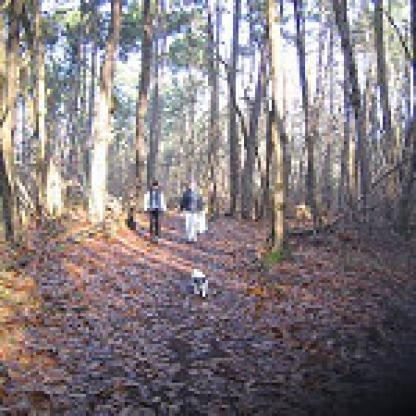trunk: (0, 0, 53, 261), (75, 0, 126, 228), (327, 0, 378, 217), (263, 0, 294, 258), (291, 0, 327, 219), (200, 3, 233, 216), (130, 0, 161, 211), (372, 0, 407, 153)
